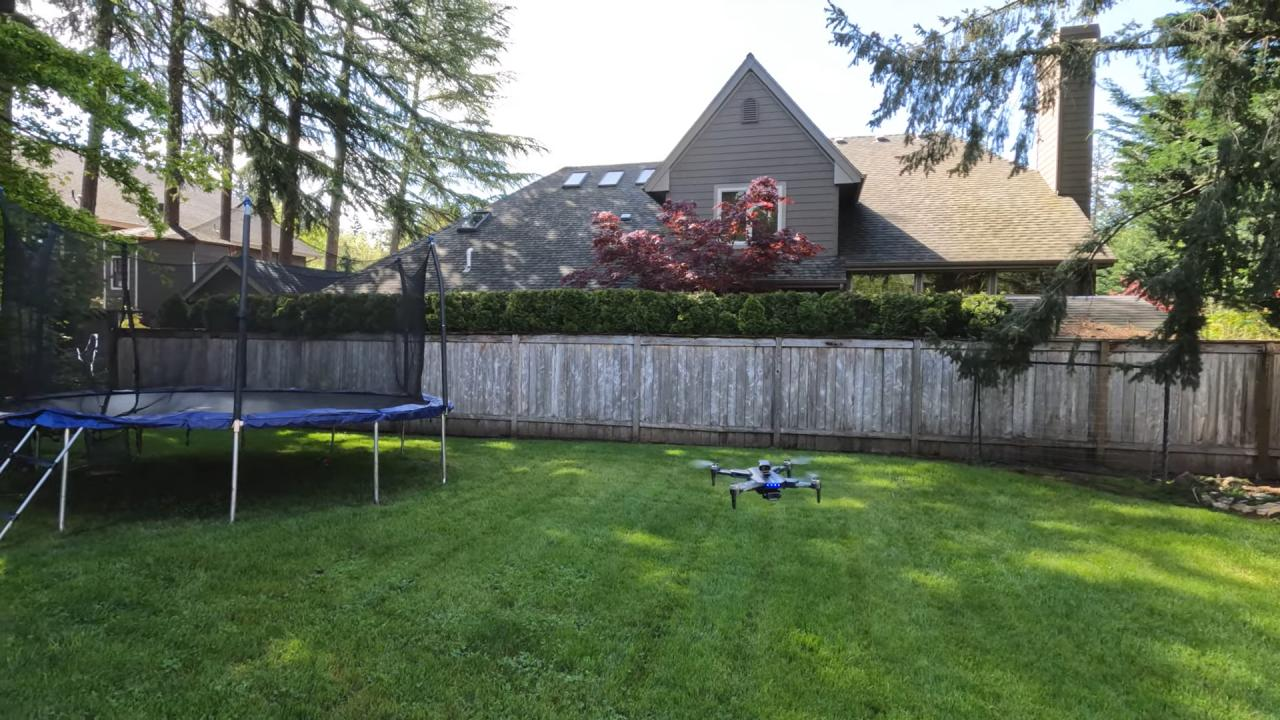Drone: (685, 446, 846, 519)
